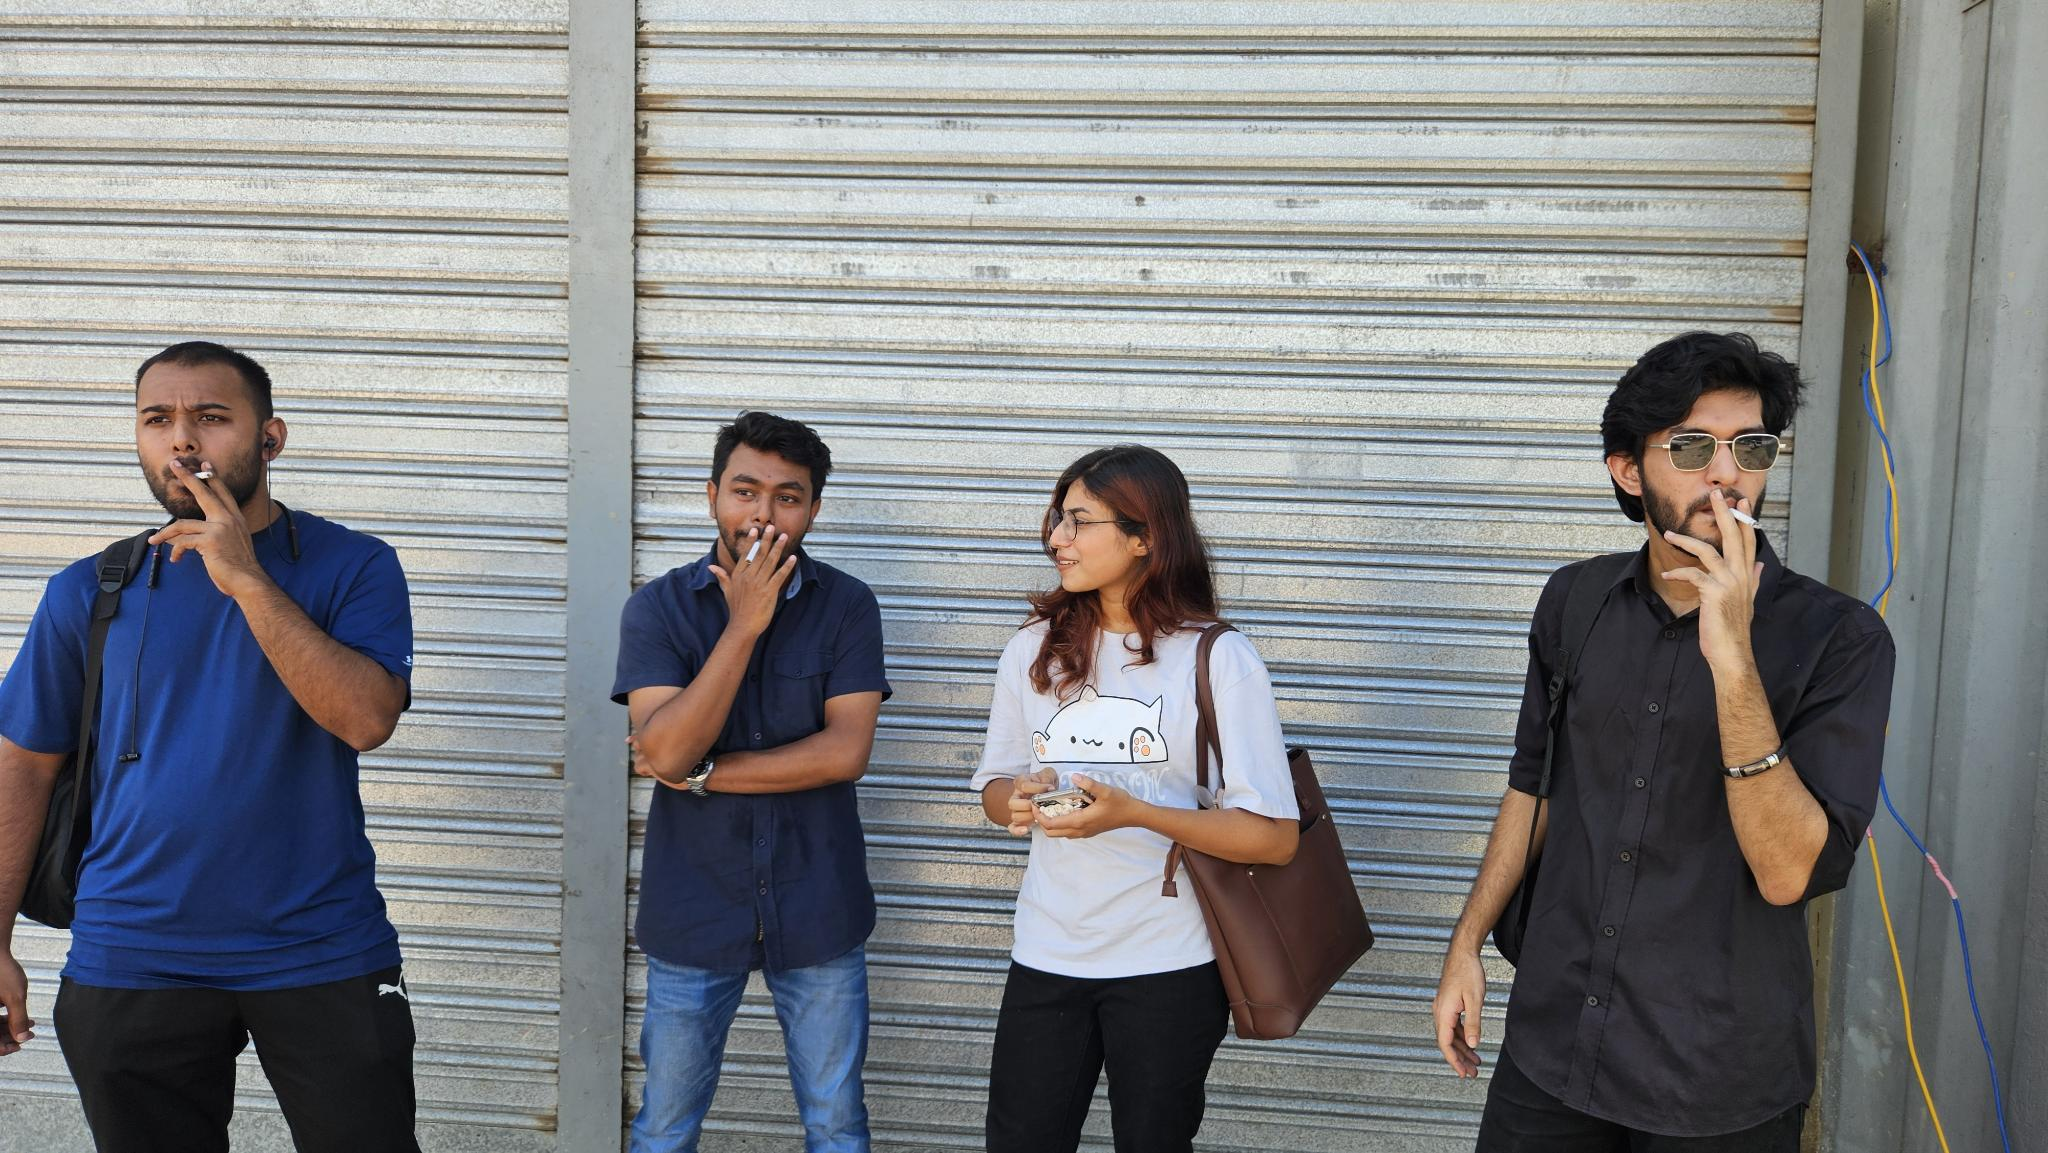cigarette: (1726, 506, 1765, 533), (743, 537, 764, 567), (191, 468, 217, 481)
nonSmoker: (969, 444, 1377, 1153)
smoker: (1432, 330, 1896, 1153), (0, 339, 422, 1153), (612, 409, 893, 1153)
